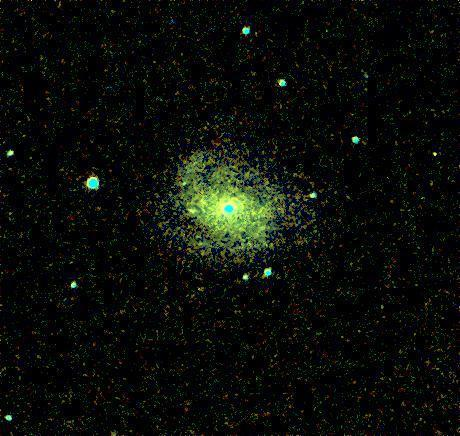star: (420, 139, 450, 169)
